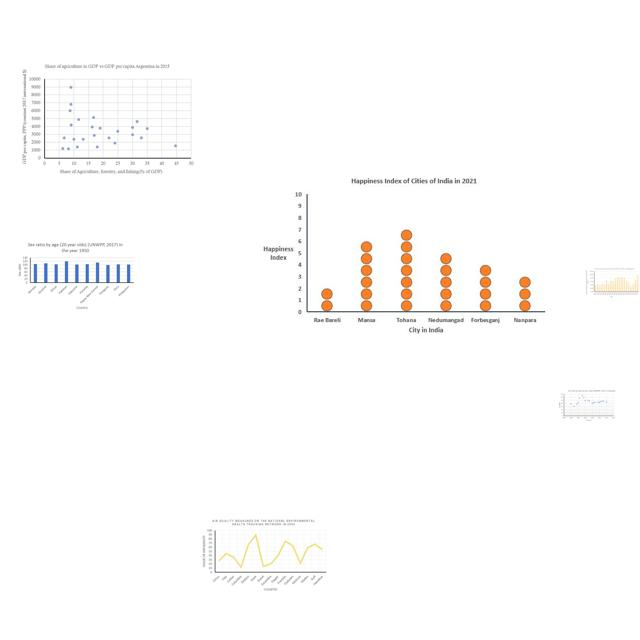Graph: (255, 173, 548, 342), (18, 59, 196, 177), (199, 518, 328, 594), (15, 241, 136, 312), (557, 387, 616, 422), (585, 267, 640, 298)
